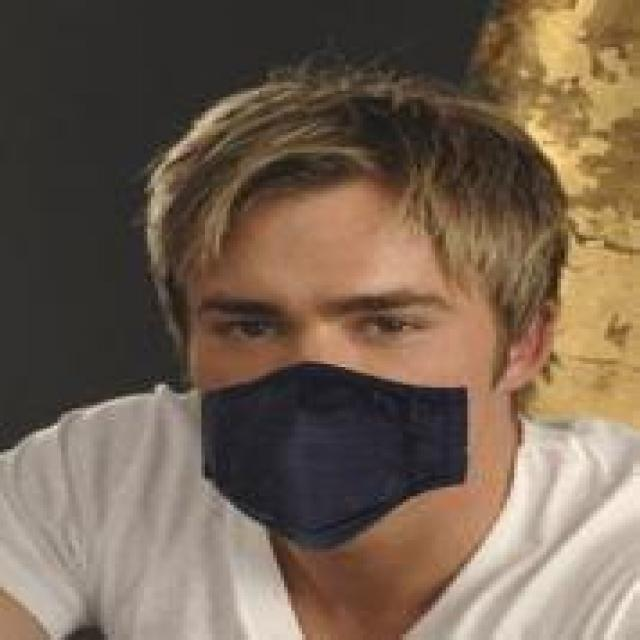mask: (126, 62, 593, 555)
